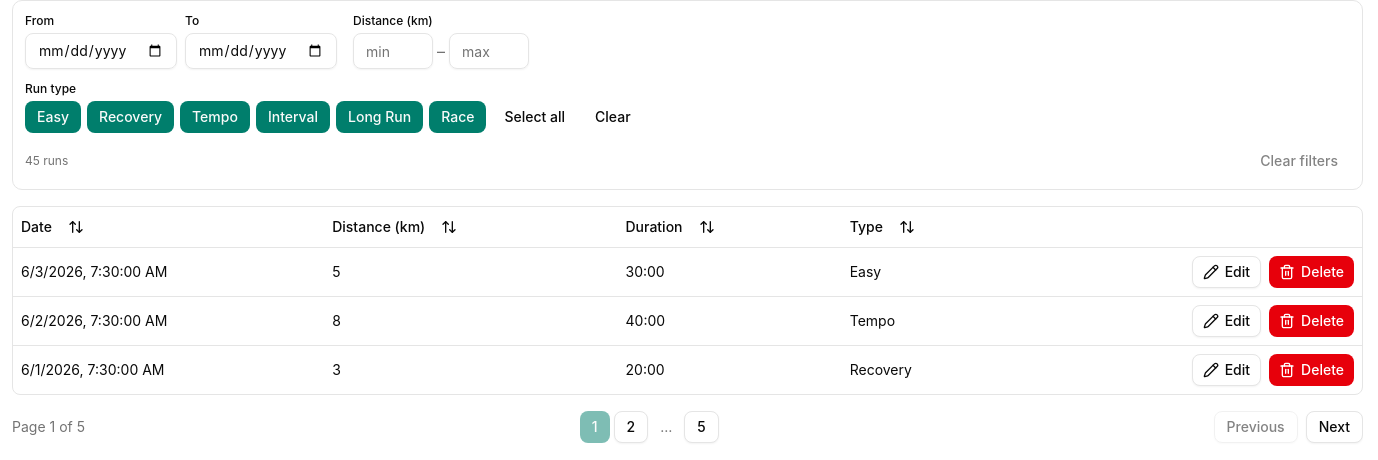
Test case: RunList pagination › shows the page indicator and pages forward/back via offset
This screenshot has width=1378, height=460.
Expected: the navigation bar named "Run pages" is shown, [12,410,1363,442]
Expected: the text "Page 1 of 5" is shown, [12,416,85,436]
Click the button "Next" at (1334, 426), box [1306,410,1363,442]
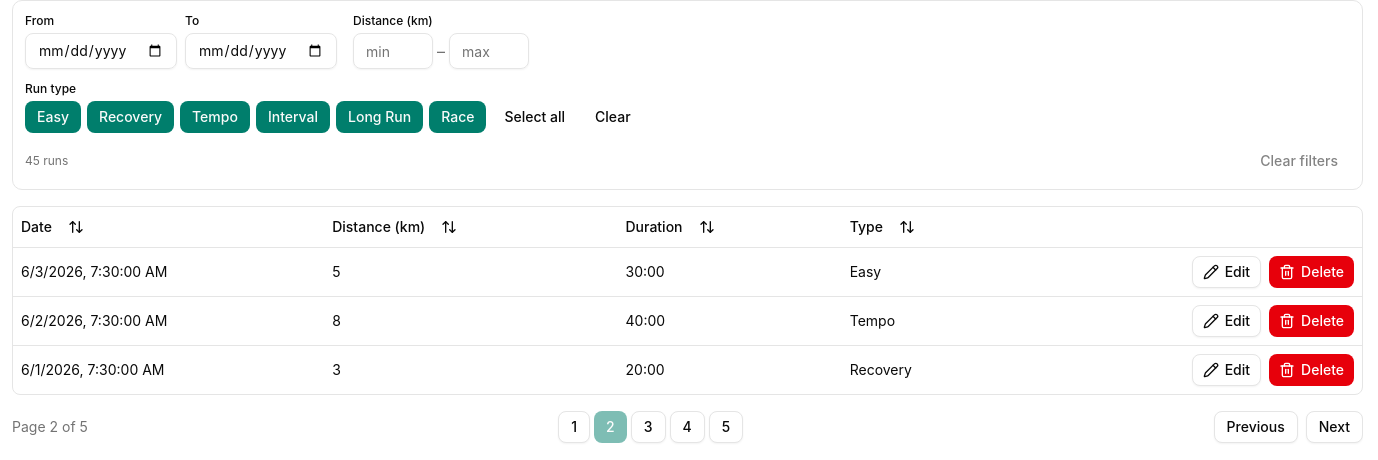
Expected: the text "Page 2 of 5" is shown, [12,416,88,436]
Click the button "Previous" at (1256, 426), box [1214,410,1298,442]
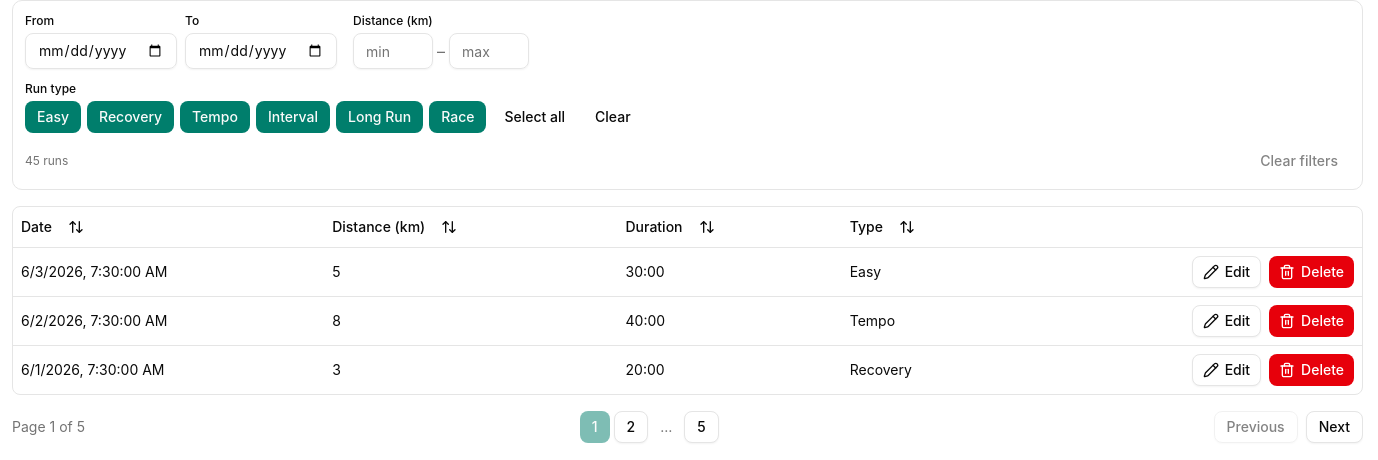
Expected: the text "Page 1 of 5" is shown, [12,416,85,436]
